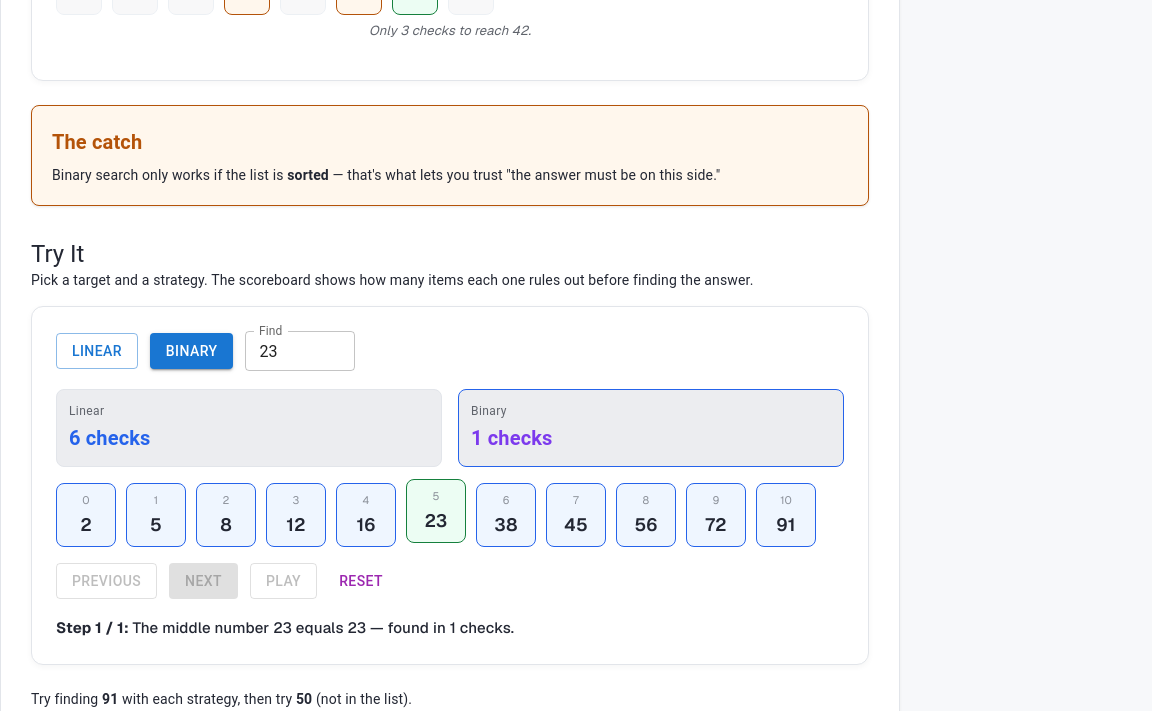
Test case: SearchingConcept › steps through a linear search
(page scrolled)
Click the button "Linear" at (97, 351), box [56,333,138,369]
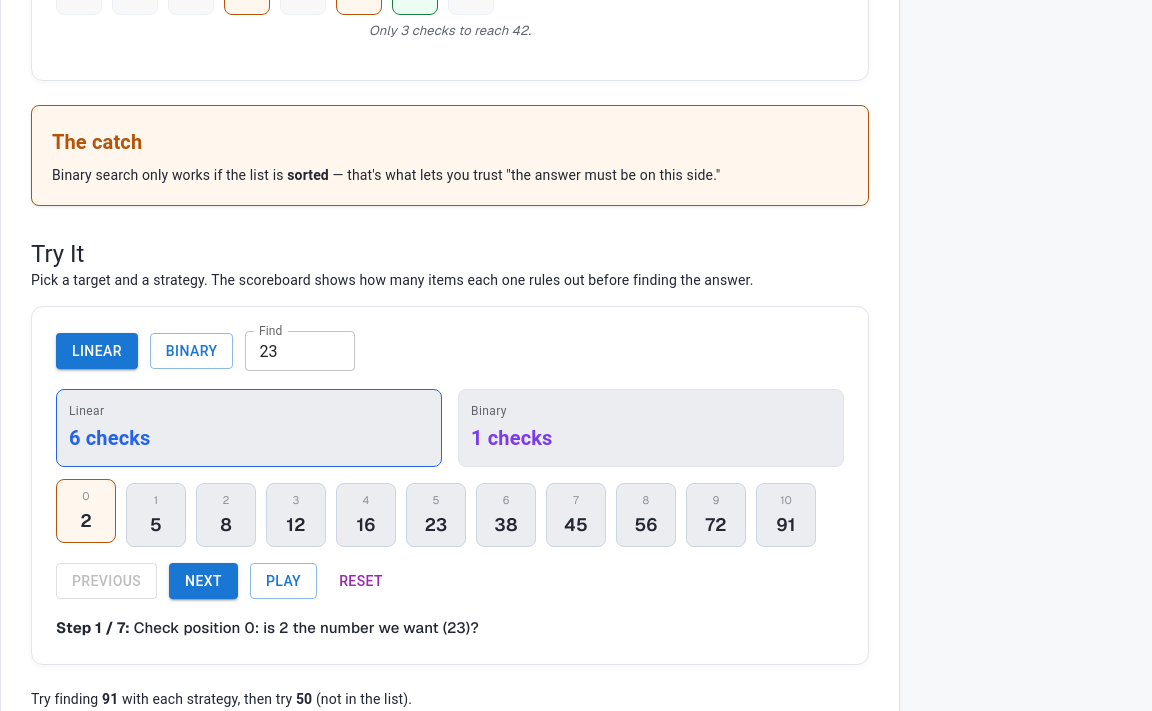
Check: the text "Step 1 / 7:" is shown, box [56,618,130,638]
Click the button "Next" at (204, 581), box [169,563,238,600]
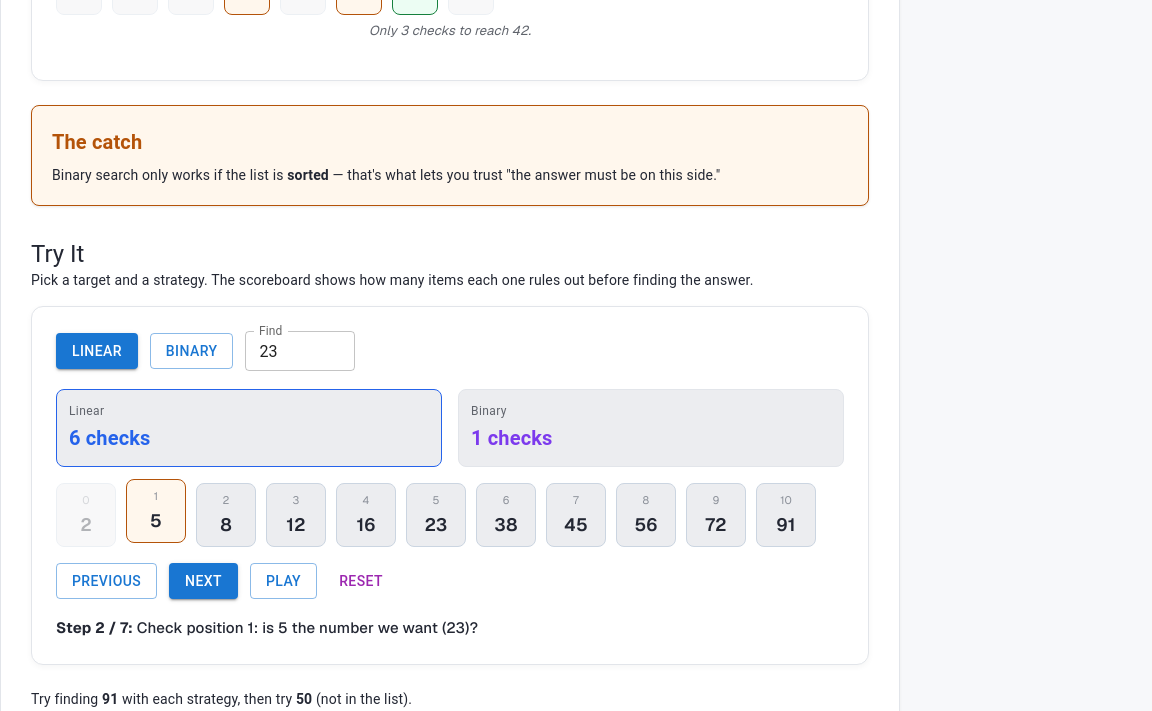
Check: the text "Step 2 / 7:" is shown, box [56,618,133,638]
